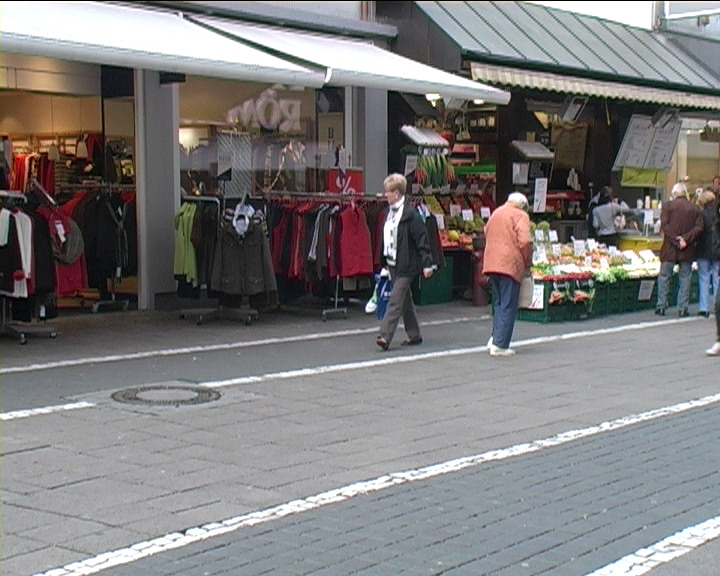deflection: (372, 171, 429, 225)
